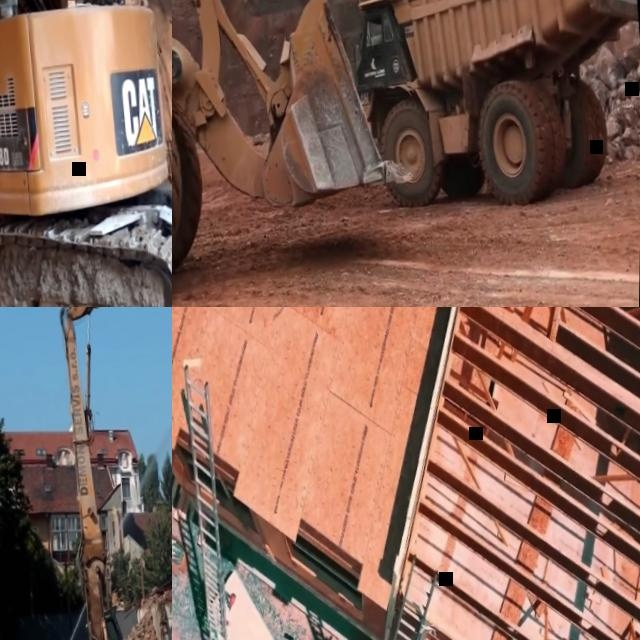machinery: (172, 0, 426, 307), (341, 0, 640, 215), (0, 307, 172, 640), (0, 0, 172, 307)
